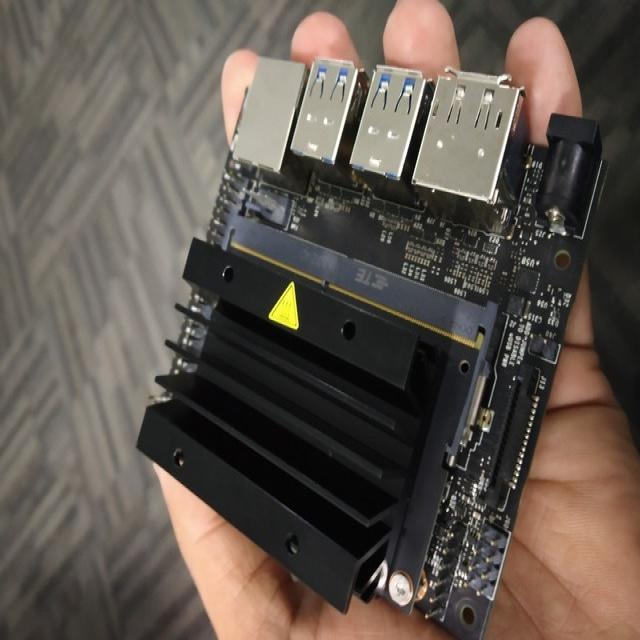Jetson Nano: (136, 59, 610, 640)
